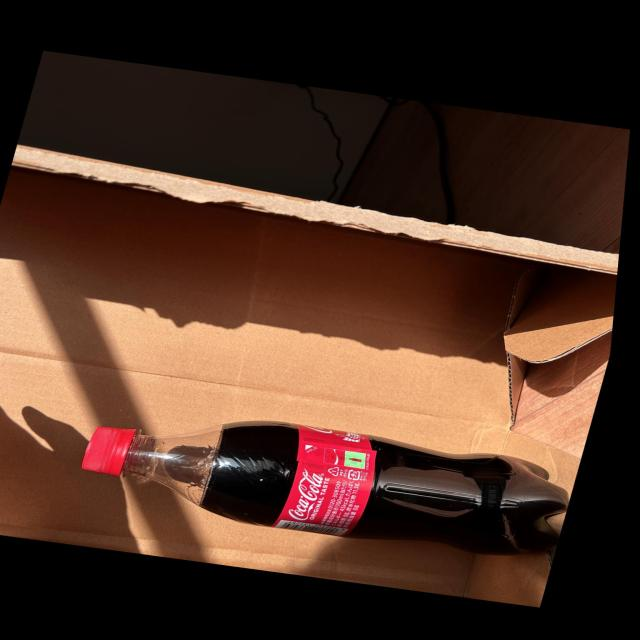high: (82, 421, 568, 555)
